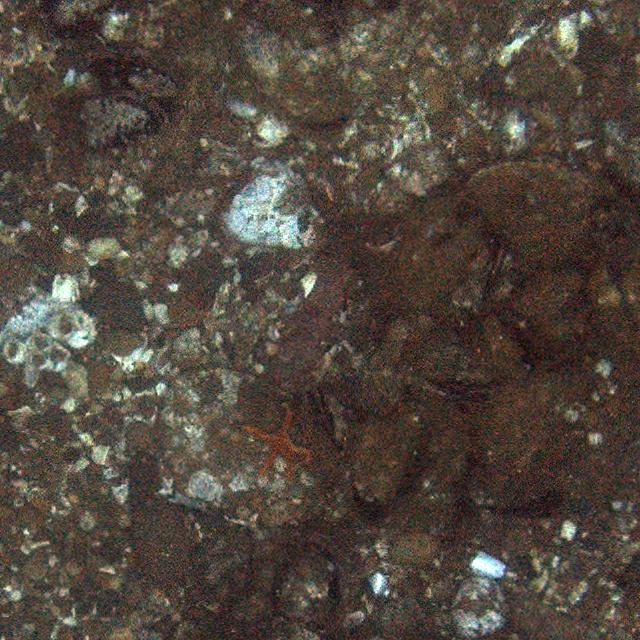crab: (292, 150, 398, 274)
